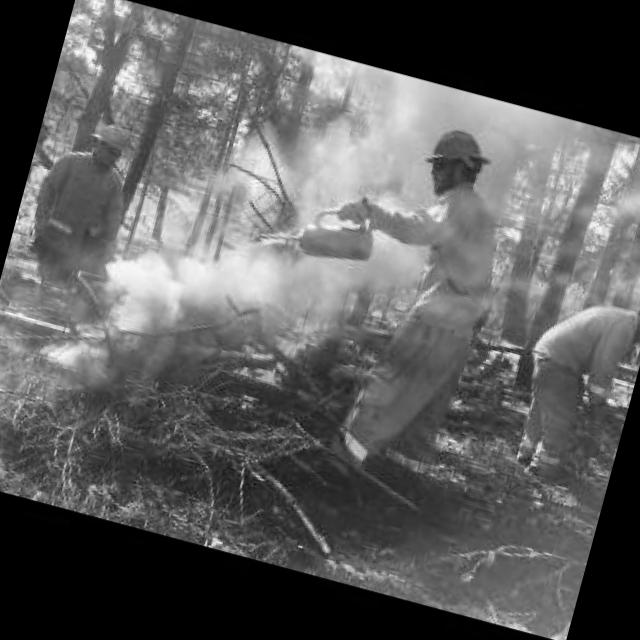fire: (216, 286, 342, 422), (256, 218, 298, 252)
smoke: (82, 203, 270, 374)
